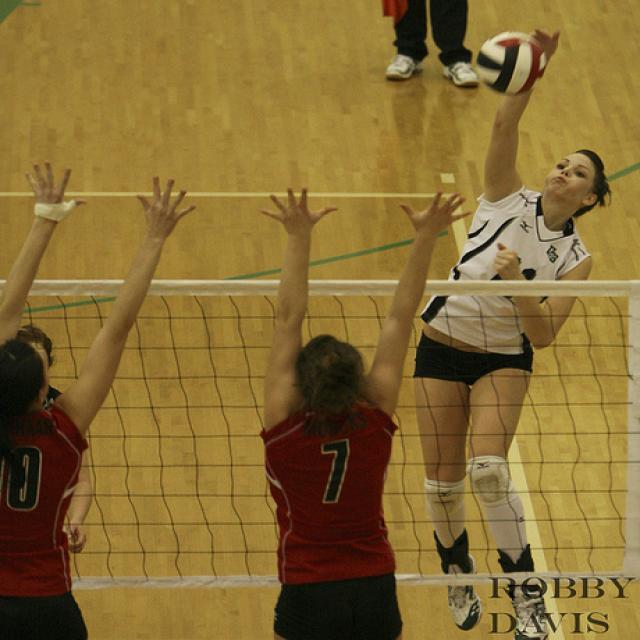volleyball: (477, 32, 548, 96)
